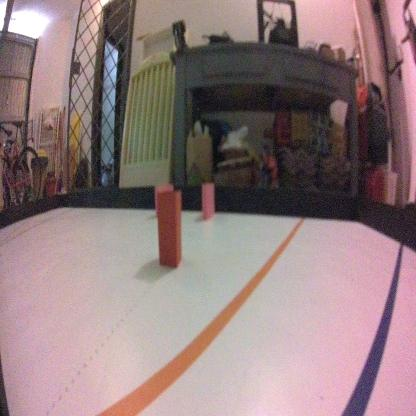magenta: (200, 178, 217, 228)
red: (156, 191, 182, 269)
